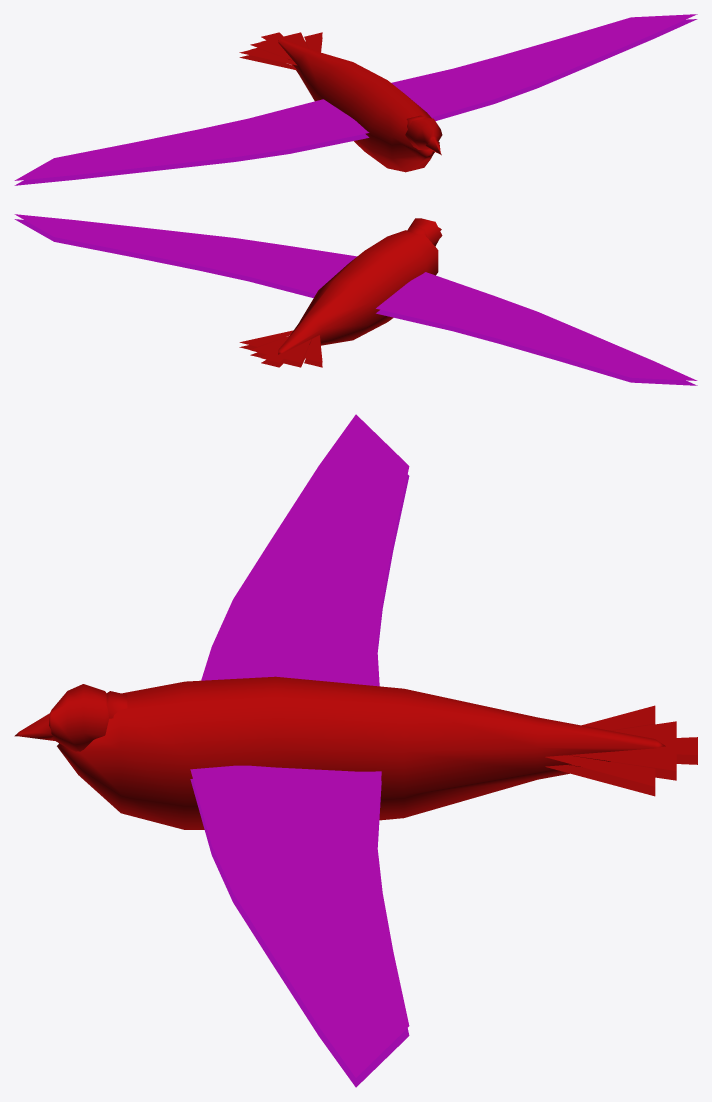
Rendered from shearwater.glb.
The picture shows the model from 3 angles, top to bottom: view 1: azimuth 30°, elevation 25°; view 2: azimuth 150°, elevation 25°; view 3: azimuth 270°, elevation 25°; orthographic projection. The views are drawn at different scales.
Visible parts, largest first — view 1: bird; view 2: bird; view 3: bird.
Boxes of the visible parts, x1,y1,x2,y2 form: bird: (14,14,697,185); bird: (14,214,697,385); bird: (14,414,697,1087).
Size of the model in its own units: 1.15 by 0.1055 by 0.5.
